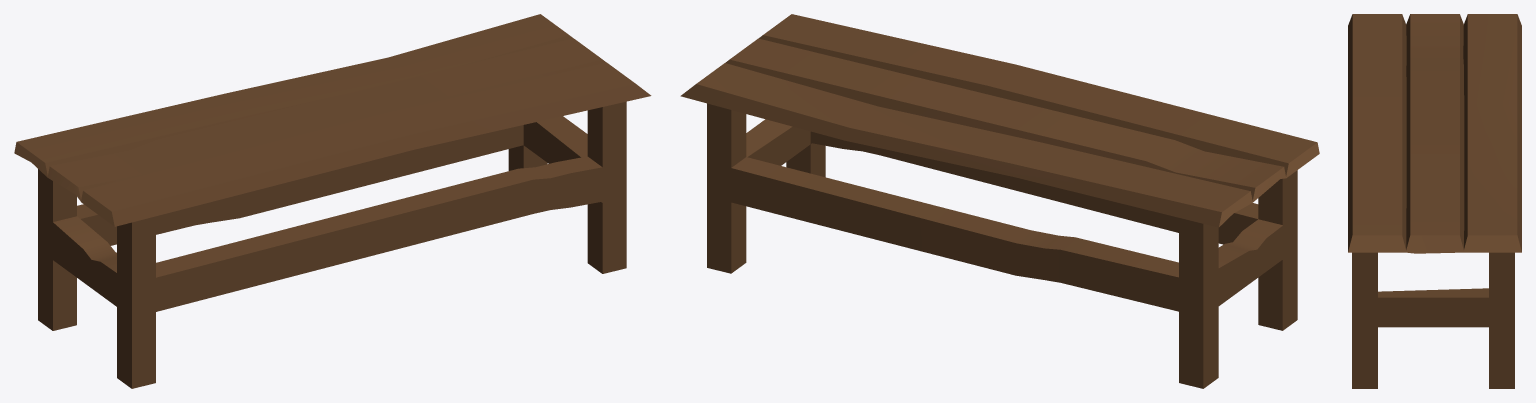
File: bench01.fbx
3 views of the same model, side by side, from view 1: azimuth 30°, elevation 25°; view 2: azimuth 150°, elevation 25°; view 3: azimuth 270°, elevation 25° (orthographic). The views are drawn at different scales.
Visible parts, largest first — view 1: bench01; view 2: bench01; view 3: bench01.
Boxes of the visible parts, left/top/right/bottom form: bench01: left=14, top=14, right=651, bottom=388; bench01: left=680, top=14, right=1319, bottom=388; bench01: left=1348, top=14, right=1521, bottom=388.
Size of the model in its own units: 267 by 88.24 by 86.35.
